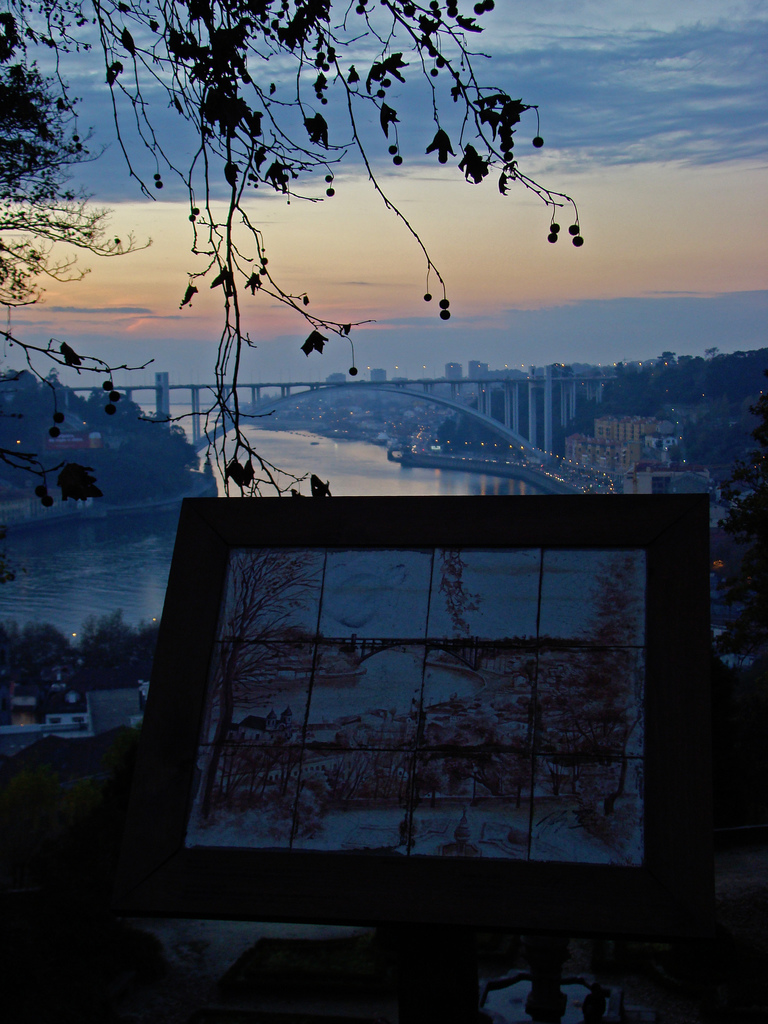arrabida: (77, 369, 617, 469)
